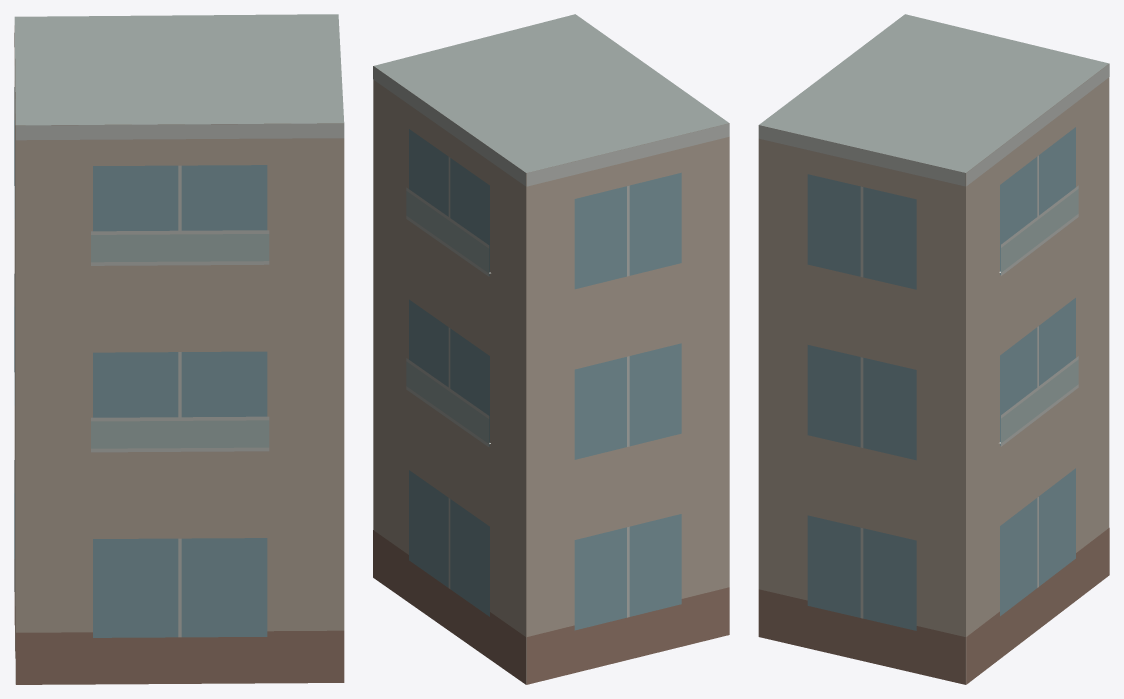
Rendered from survey-upis-32921414.glb.
3 renders of one model, left to right at view 1: azimuth 30°, elevation 25°; view 2: azimuth 150°, elevation 25°; view 3: azimuth 270°, elevation 25°, orthographic. The views are drawn at different scales.
Visible parts, largest first — view 1: survey-upis-32921414.tmp; view 2: survey-upis-32921414.tmp; view 3: survey-upis-32921414.tmp.
Boxes of the visible parts, <box> form: survey-upis-32921414.tmp: <box>14,14,344,684</box>; survey-upis-32921414.tmp: <box>373,14,729,684</box>; survey-upis-32921414.tmp: <box>758,14,1109,684</box>.
Bounding box in the file's own units: 6.1 × 9.15 × 5.69.
